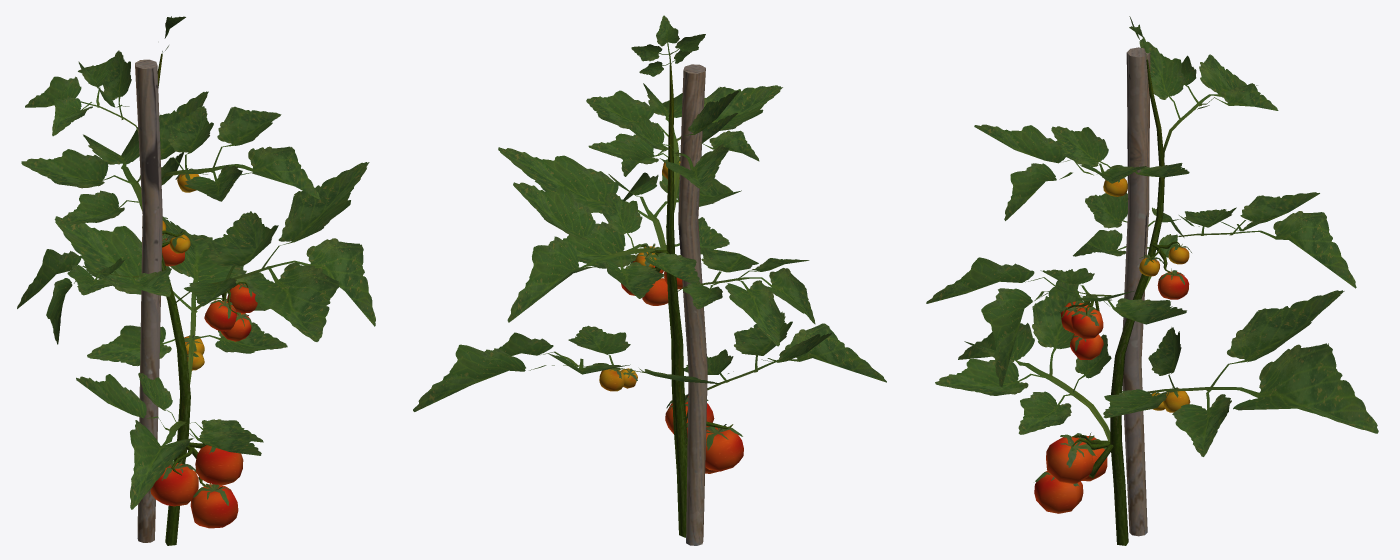
The model's file is Tomatoe.glb.
3 renders of one model, left to right at view 1: azimuth 30°, elevation 25°; view 2: azimuth 150°, elevation 25°; view 3: azimuth 270°, elevation 25°, orthographic.
Visible parts, largest first — view 1: Object_4, Object_5; view 2: Object_4, Object_5; view 3: Object_4, Object_5.
Part boxes in pixels (<box>): Object_4: <box>17,16,375,545</box>; Object_5: <box>135,59,162,542</box>; Object_4: <box>413,15,886,537</box>; Object_5: <box>678,64,707,545</box>; Object_4: <box>926,16,1378,545</box>; Object_5: <box>1122,47,1150,536</box>.
Bounding box in the file's own units: 0.6236 × 0.9591 × 0.7672.
Materials: 2 (2 with a texture image).
